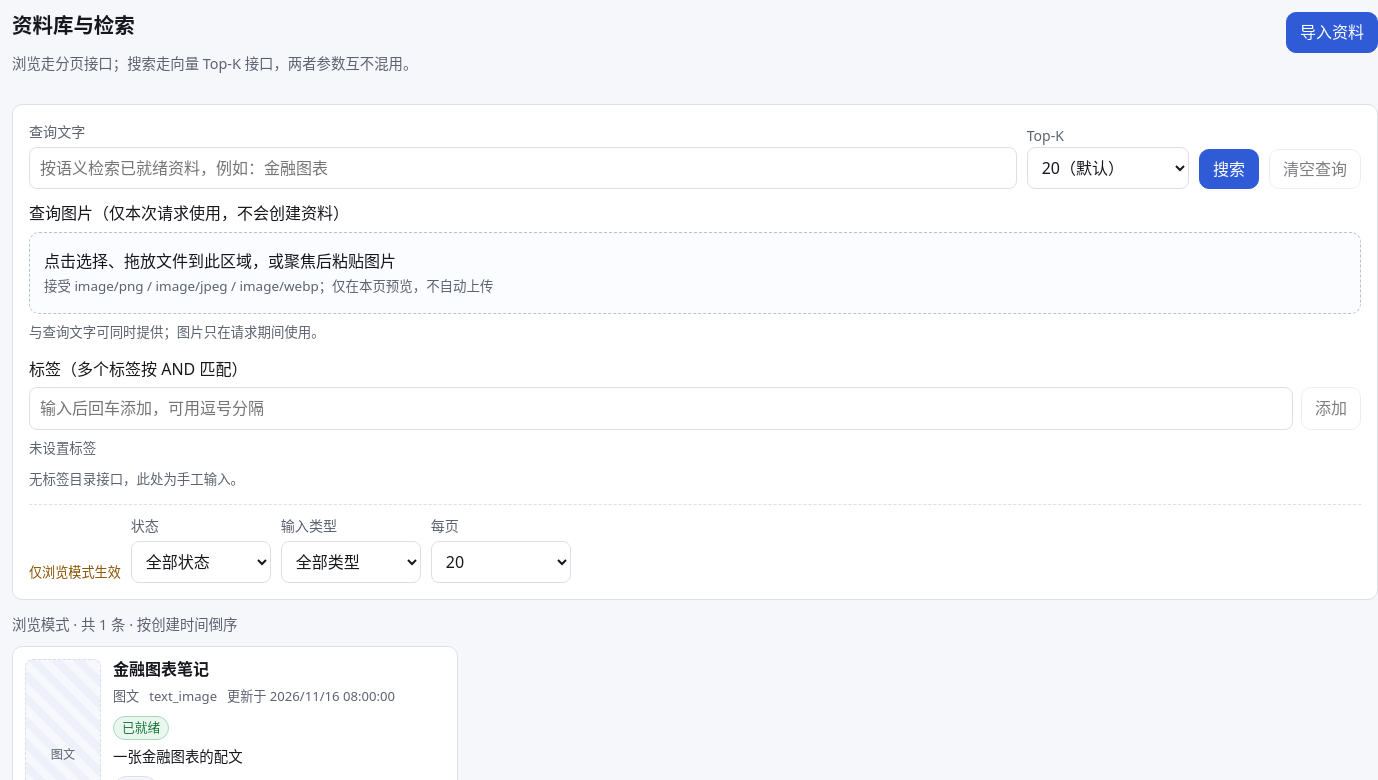
Test: library page › requires text or an image before searching and never guesses a query
Expected: the text "浏览模式 · 共 1 条 · 按创建时间倒序" is shown, [12, 615, 238, 634]
What coordinates should you click on to do the following:
click the button "搜索"
I would click on:
 (1229, 169)
Its box is [1199, 148, 1259, 189].
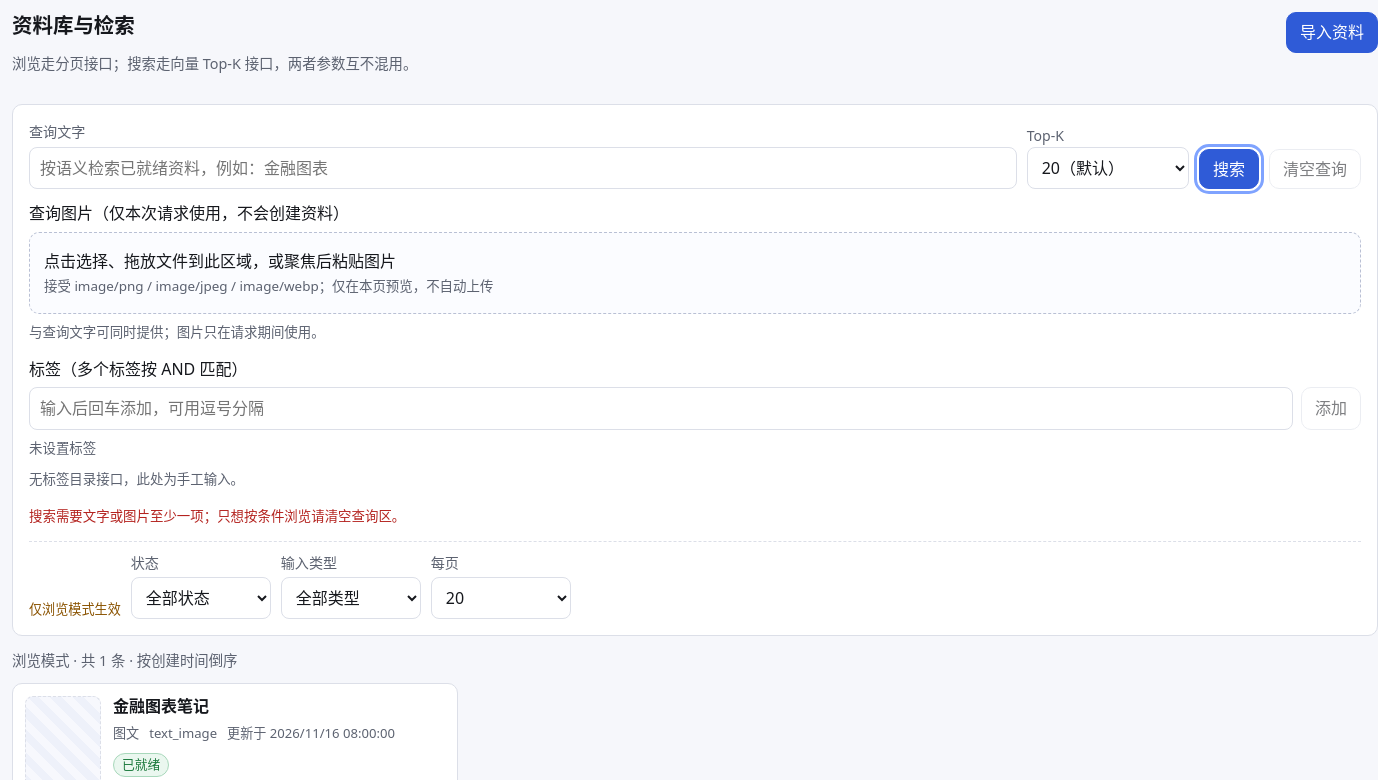
Expected: the text "搜索需要文字或图片至少一项；只想按条件浏览请清空查询区。" is shown, [29, 507, 405, 525]
